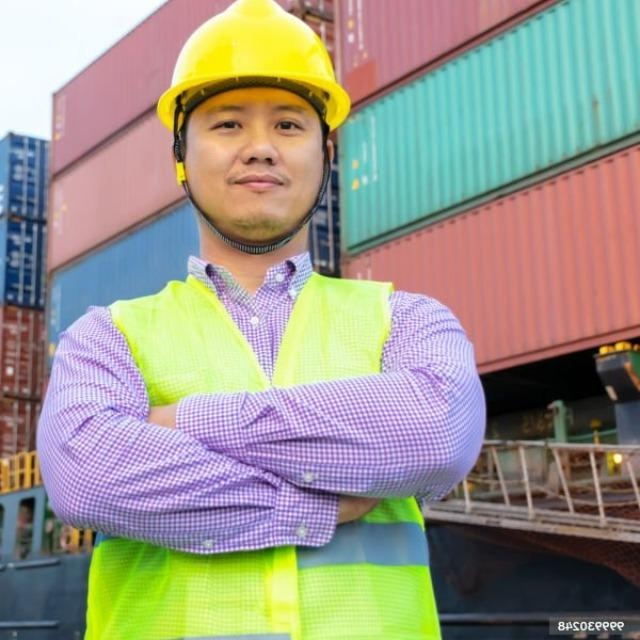Con_Casco: (159, 0, 357, 250)
Con_Chaleco: (81, 261, 433, 640)
